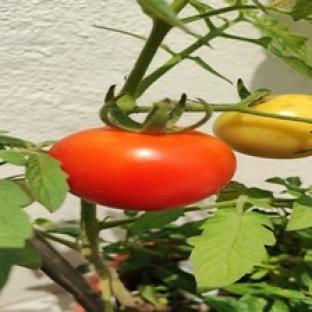Tomato: (49, 127, 235, 210), (214, 112, 311, 158)
